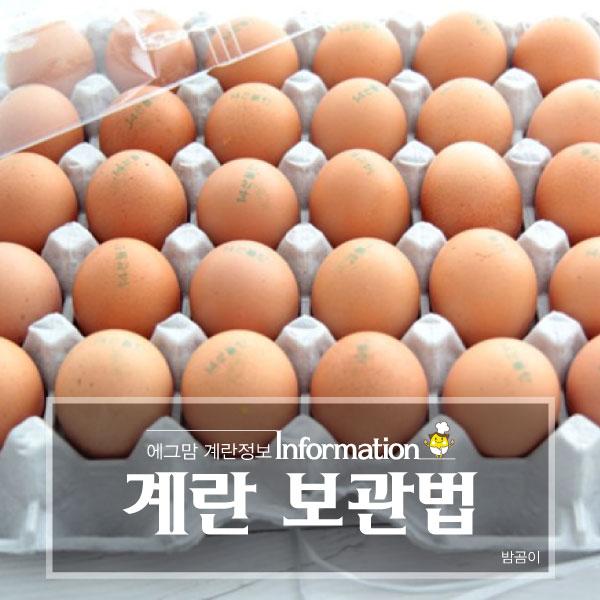egg: (1, 15, 600, 460)
